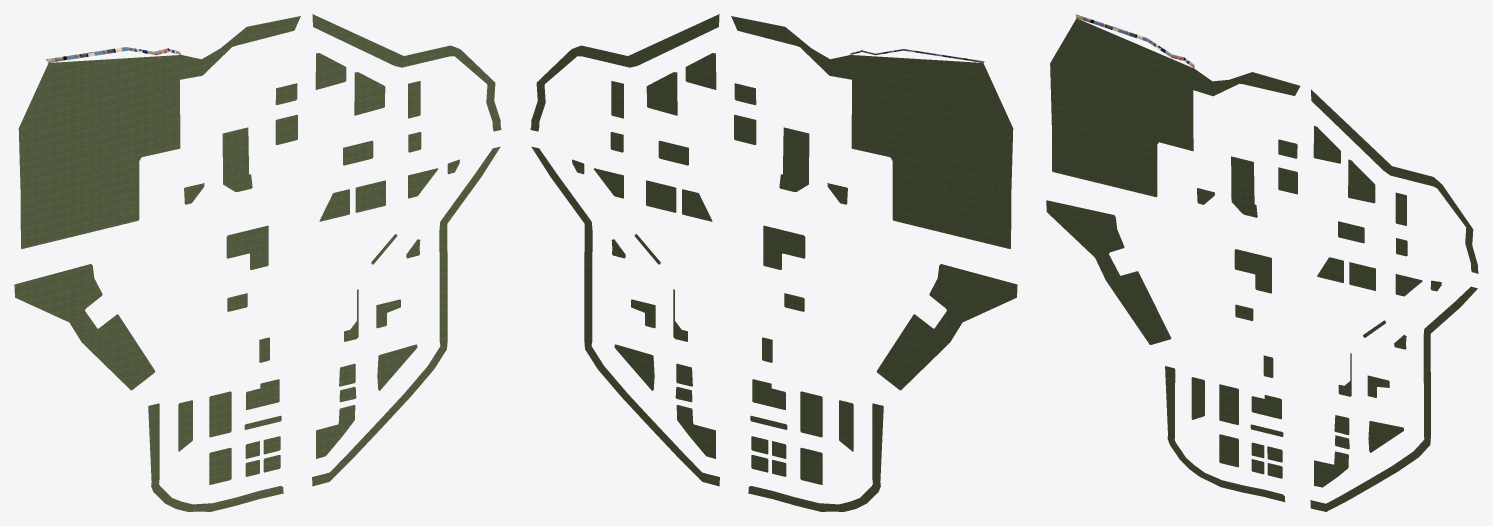
File: 202_grass.gltf
The picture shows the model from 3 angles, left to right: view 1: azimuth 30°, elevation 25°; view 2: azimuth 150°, elevation 25°; view 3: azimuth 330°, elevation 25°; orthographic projection. The views are drawn at different scales.
Parts seen in each view (by area): view 1: grass; view 2: grass; view 3: grass.
Part boxes in pixels (box(x1,y1,x2,y2)): grass: box(14, 14, 501, 511); grass: box(530, 14, 1017, 511); grass: box(1046, 14, 1478, 511).
Size of the model in its own units: 586 by 565 by 2.72.
2 materials, 2 textured.
